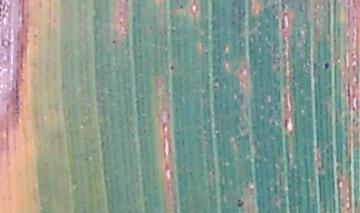tarspot: (236, 197, 246, 209), (323, 60, 330, 71), (178, 2, 186, 11), (169, 63, 177, 71), (112, 38, 117, 44), (100, 140, 106, 145), (84, 156, 89, 161)
